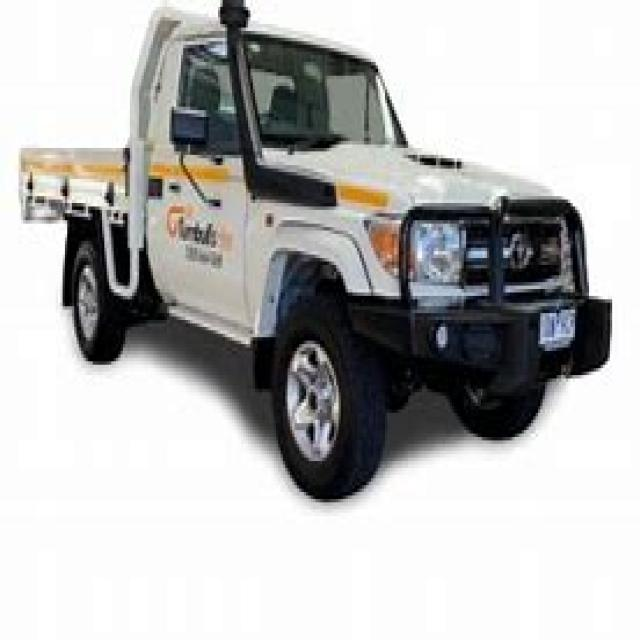light_vehicle: (14, 3, 610, 499)
